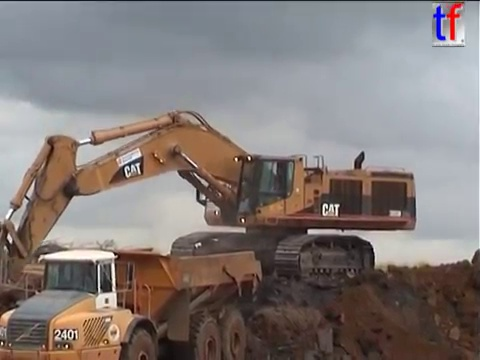excavator: (1, 107, 420, 300)
truck: (1, 244, 264, 360)
